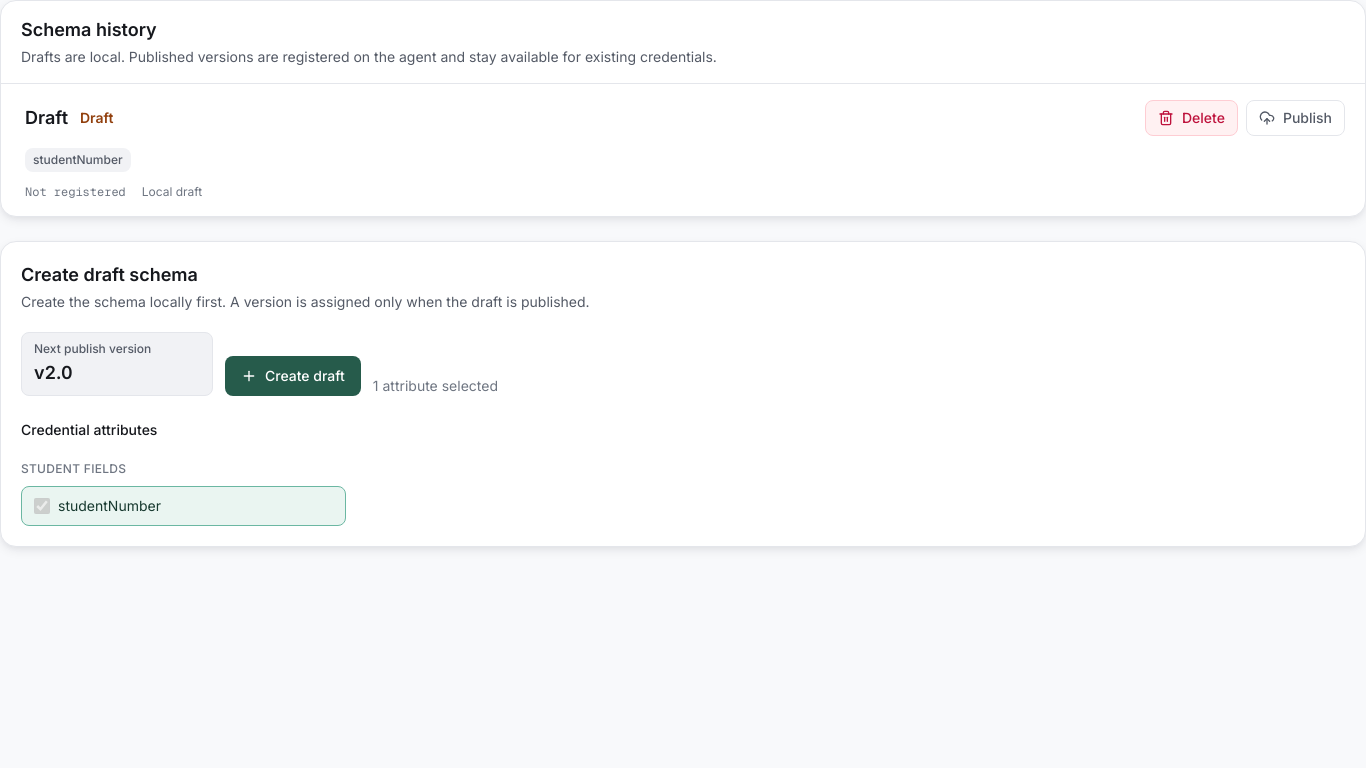
Test case: SchemaVersionManager › confirms publishing via a dialog before submitting the request
Expected: the button "Confirm and publish" is not shown
Click the button "Publish" at coordinates (1295, 118), box [1246, 100, 1345, 136]
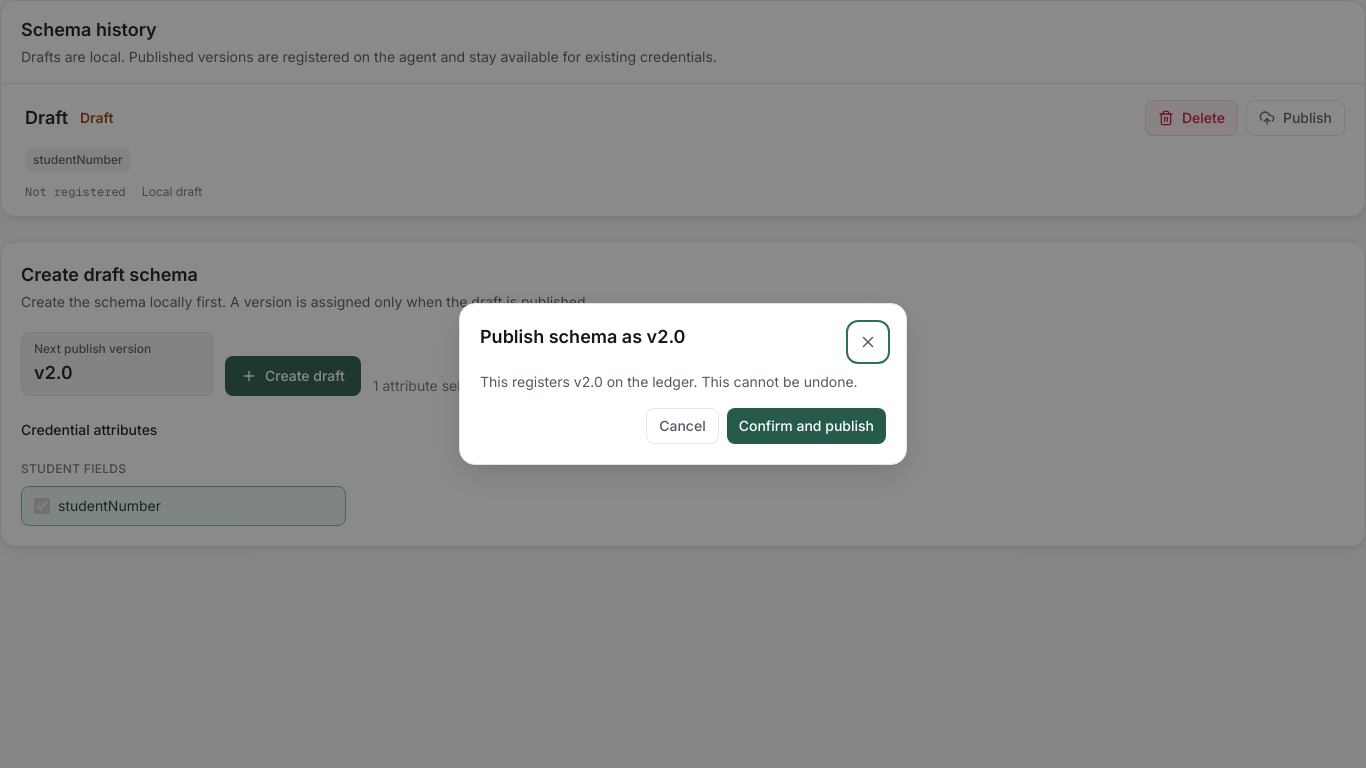
Expected: the text "This registers v2.0 on the ledger. This cannot be undone." is shown, [480, 372, 886, 392]
Expected: the button "Confirm and publish" is shown, [727, 408, 886, 444]
